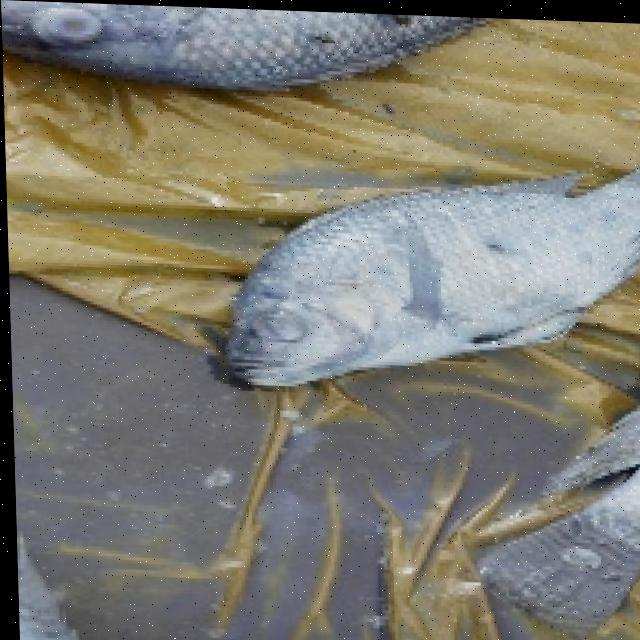Non-Fresh: (205, 149, 640, 401), (0, 0, 419, 96)
